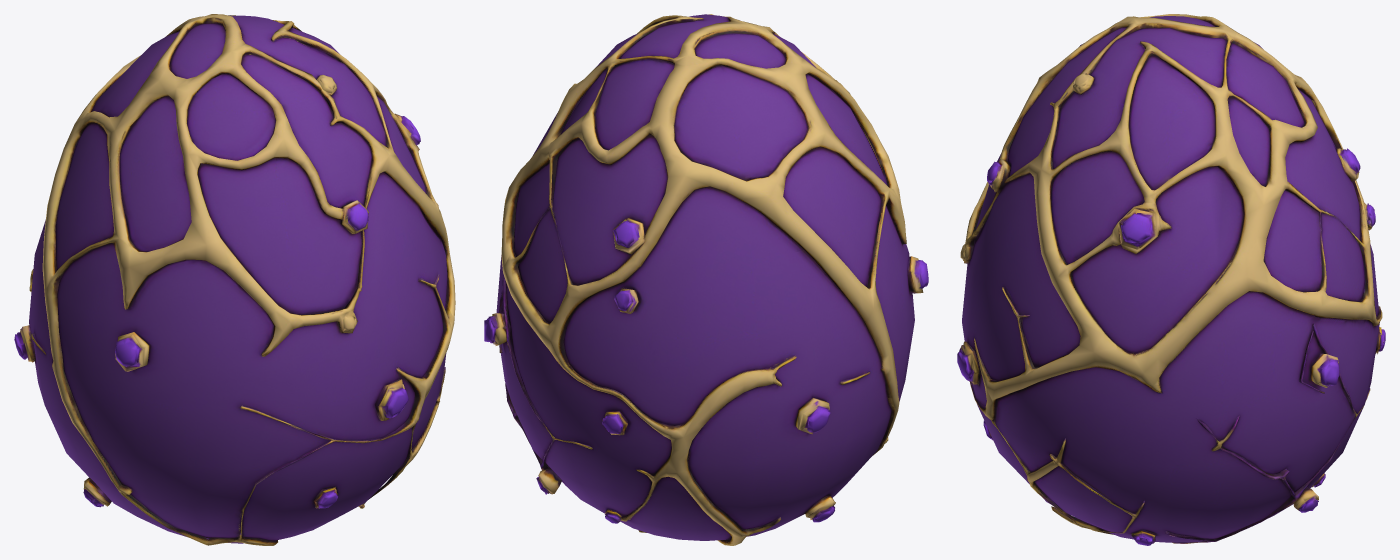
File: r33-dragonegg.glb
3 renders of one model, left to right at view 1: azimuth 30°, elevation 25°; view 2: azimuth 150°, elevation 25°; view 3: azimuth 270°, elevation 25°, orthographic.
Parts seen in each view (by area): view 1: tripo_node_5c479a6f-634a-4bff-b33b-70b3f97b3204; view 2: tripo_node_5c479a6f-634a-4bff-b33b-70b3f97b3204; view 3: tripo_node_5c479a6f-634a-4bff-b33b-70b3f97b3204.
Boxes of the visible parts, x1=… form: tripo_node_5c479a6f-634a-4bff-b33b-70b3f97b3204: x1=14, y1=14, x2=455, y2=545; tripo_node_5c479a6f-634a-4bff-b33b-70b3f97b3204: x1=484, y1=14, x2=928, y2=545; tripo_node_5c479a6f-634a-4bff-b33b-70b3f97b3204: x1=957, y1=14, x2=1385, y2=545.
Bounding box in the file's own units: 0.7637 × 0.998 × 0.7676.
Materials: 1 (1 with a texture image).
